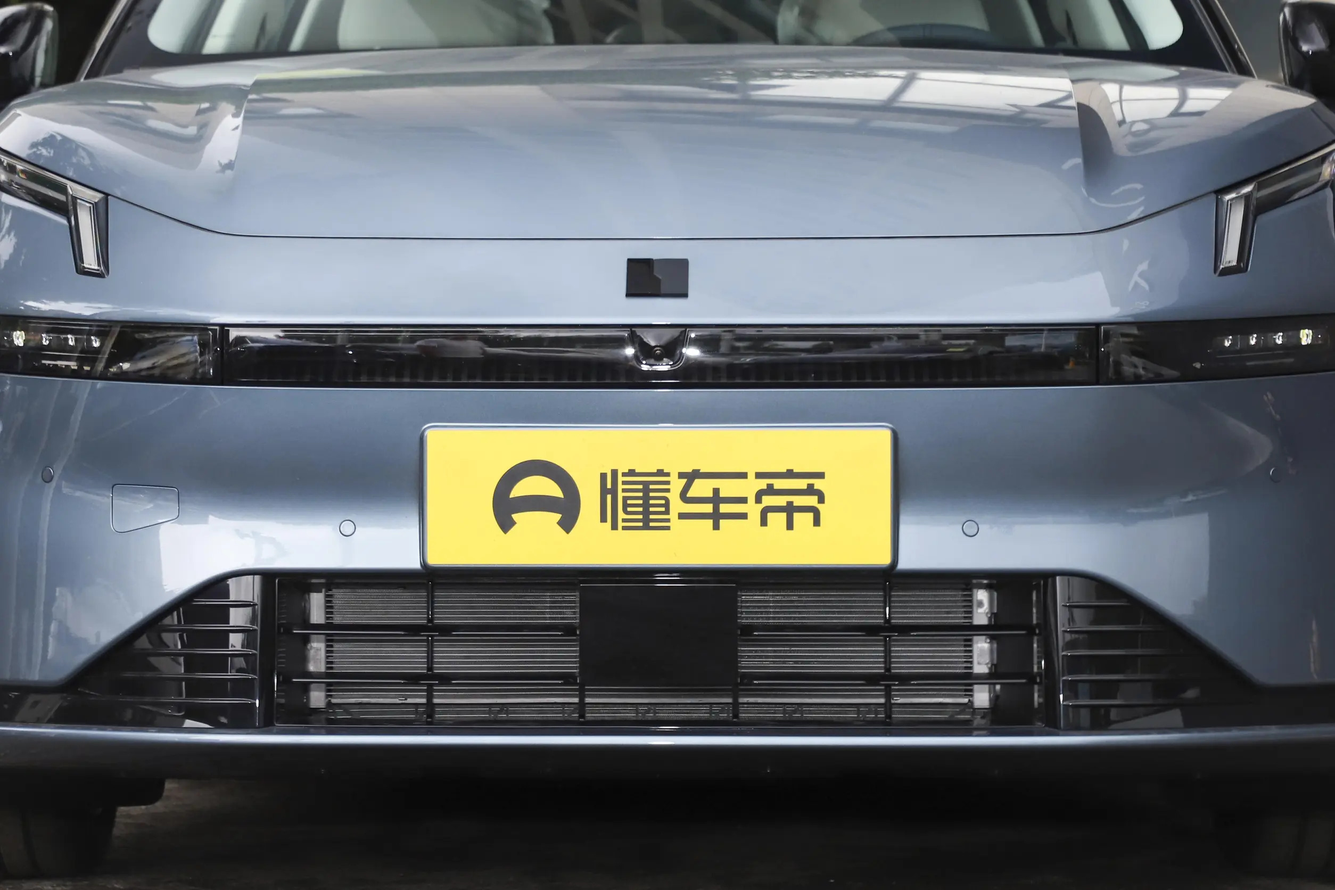LINK&CO: (627, 258, 689, 296)
